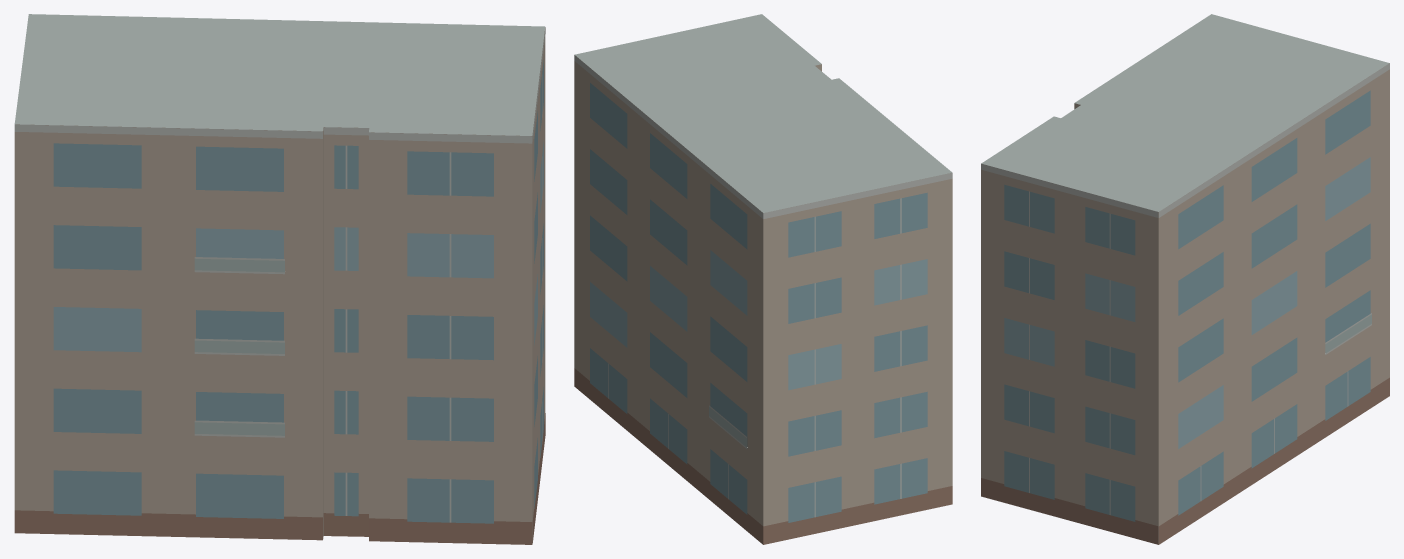
File: survey-upis-32893674.glb
The picture shows the model from 3 angles, left to right: view 1: azimuth 30°, elevation 25°; view 2: azimuth 150°, elevation 25°; view 3: azimuth 270°, elevation 25°; orthographic projection. The views are drawn at different scales.
Parts seen in each view (by area): view 1: survey-upis-32893674.tmp; view 2: survey-upis-32893674.tmp; view 3: survey-upis-32893674.tmp.
Boxes of the visible parts, <box> form: survey-upis-32893674.tmp: <box>14,14,545,544</box>; survey-upis-32893674.tmp: <box>574,14,952,544</box>; survey-upis-32893674.tmp: <box>981,14,1389,544</box>.
Bounding box in the file's own units: 16.98 × 13.3 × 14.81.
